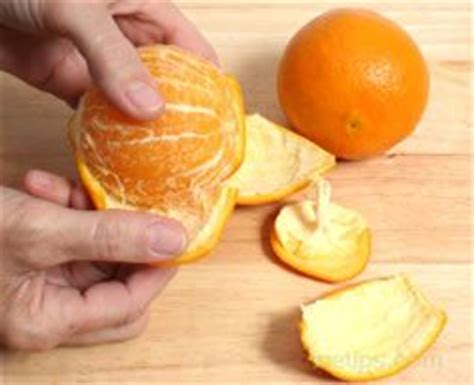orange: (271, 7, 434, 163)
